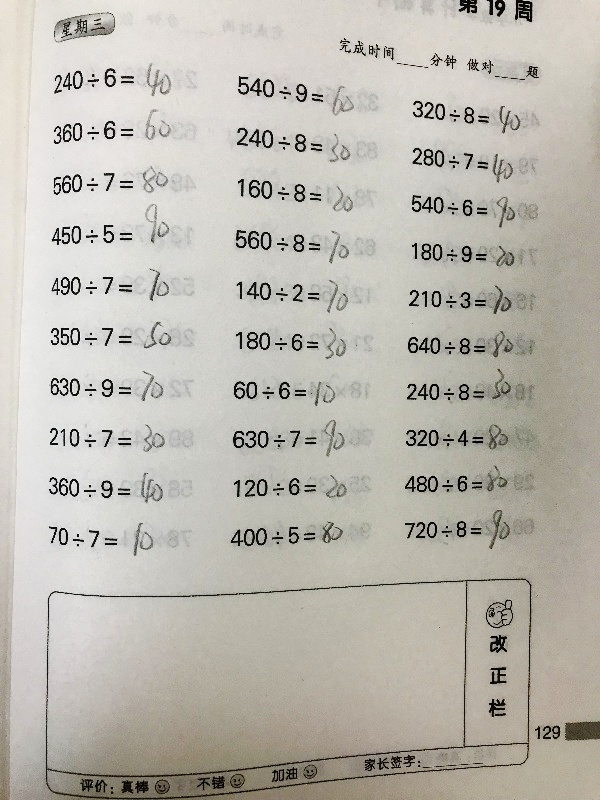equation: (47, 199, 188, 247), (232, 75, 377, 121), (42, 107, 195, 148), (45, 161, 198, 202), (45, 519, 196, 560), (48, 264, 198, 305), (46, 469, 196, 508), (44, 62, 193, 101), (45, 367, 197, 405), (232, 127, 382, 164), (405, 144, 534, 187), (404, 187, 533, 230), (403, 233, 532, 276), (399, 276, 528, 319), (400, 321, 529, 364), (400, 366, 529, 409), (395, 414, 524, 457), (397, 457, 526, 500), (396, 509, 525, 552), (46, 421, 198, 456), (232, 178, 368, 217), (231, 222, 367, 261), (227, 273, 363, 312), (226, 322, 362, 361), (225, 371, 361, 410), (226, 420, 362, 459), (224, 466, 360, 505), (218, 514, 354, 553), (46, 319, 197, 353), (409, 97, 544, 133)
